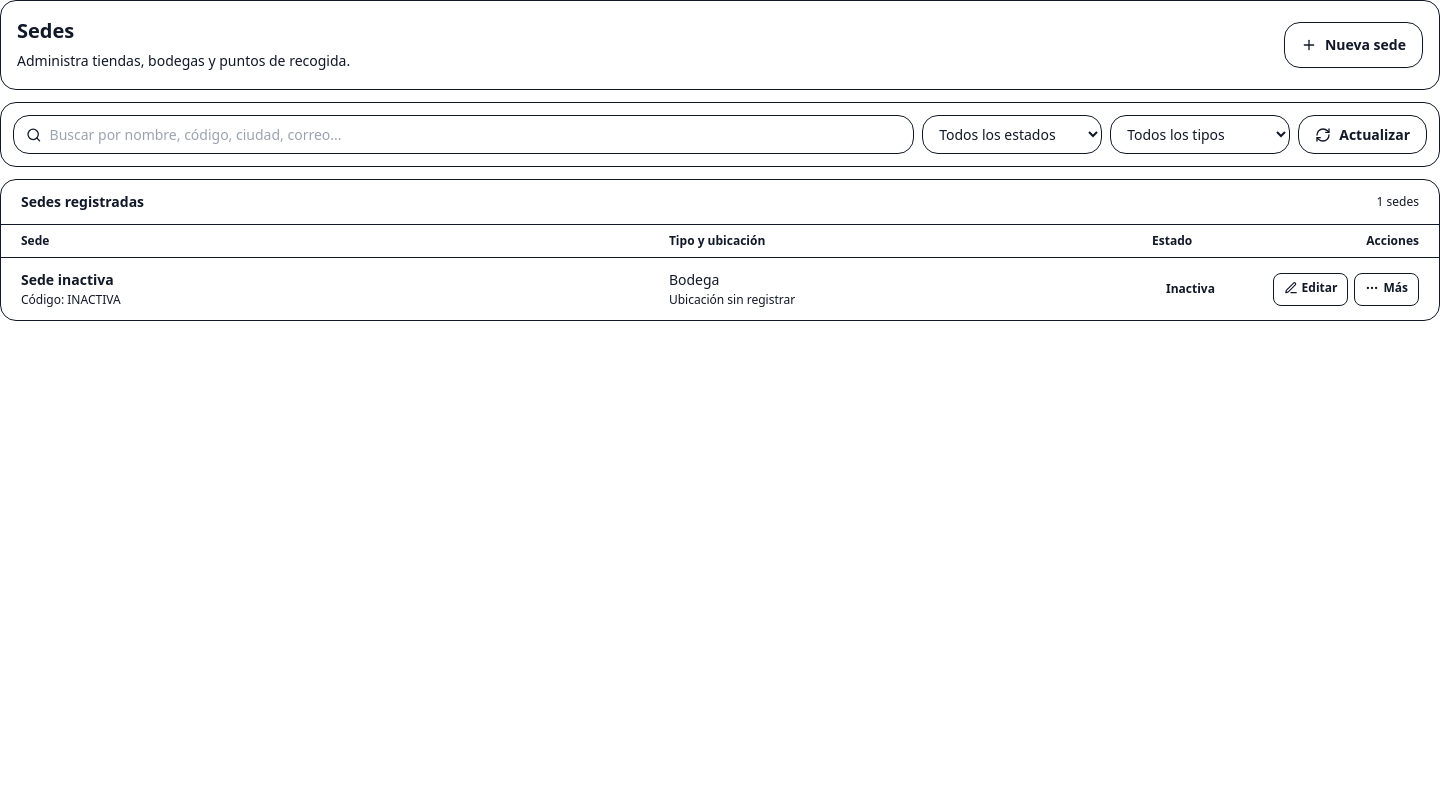
Test case: guarda los datos de una sede inactiva sin volver a solicitar su desactivación
Click the button with aria-label "Editar Sede inactiva". click: (1311, 289)
box: [1273,272,1348,306]
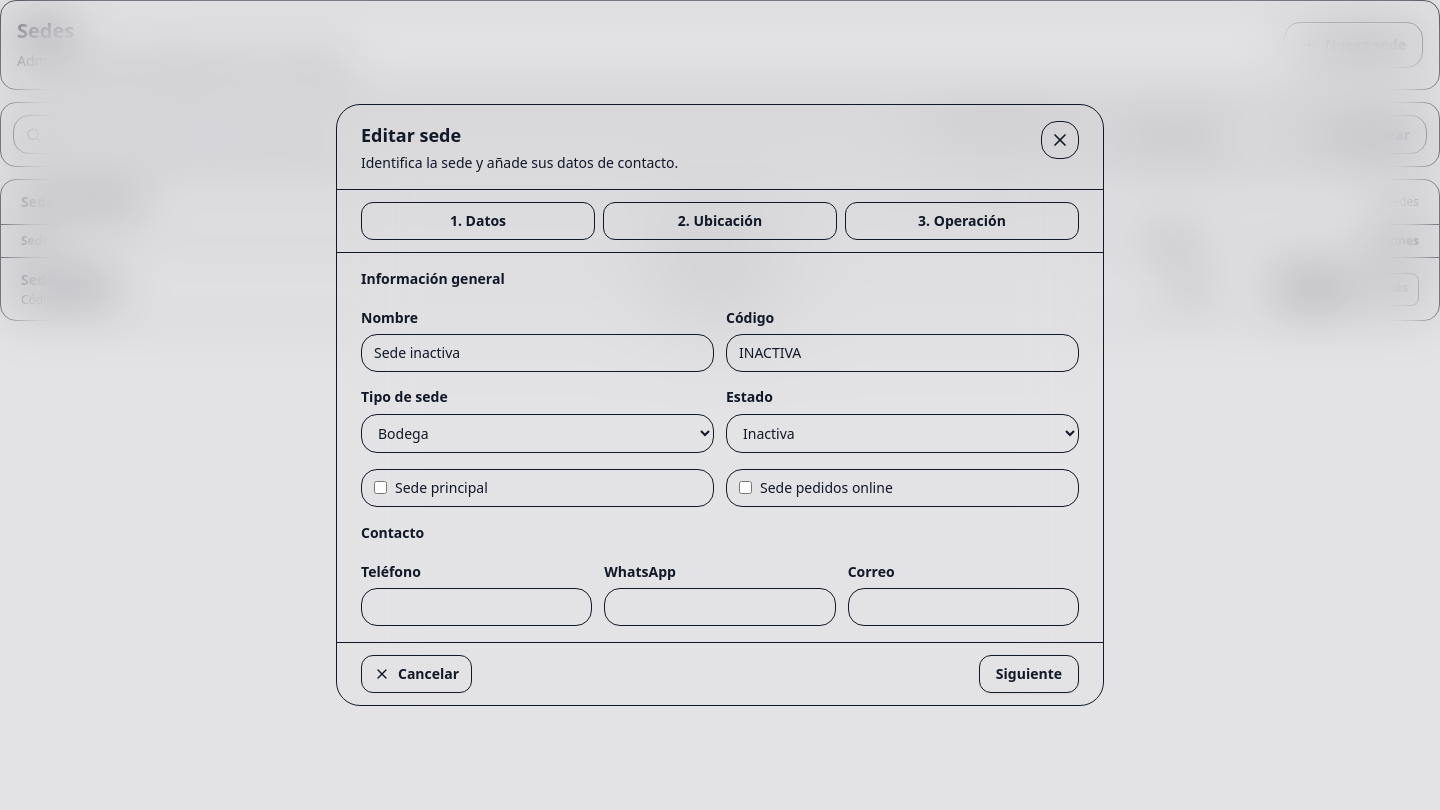
Replace the text in the field labelled "Nombre" with "Sede inactiva actualizada". click: (538, 353)
box: [361,334,714,372]
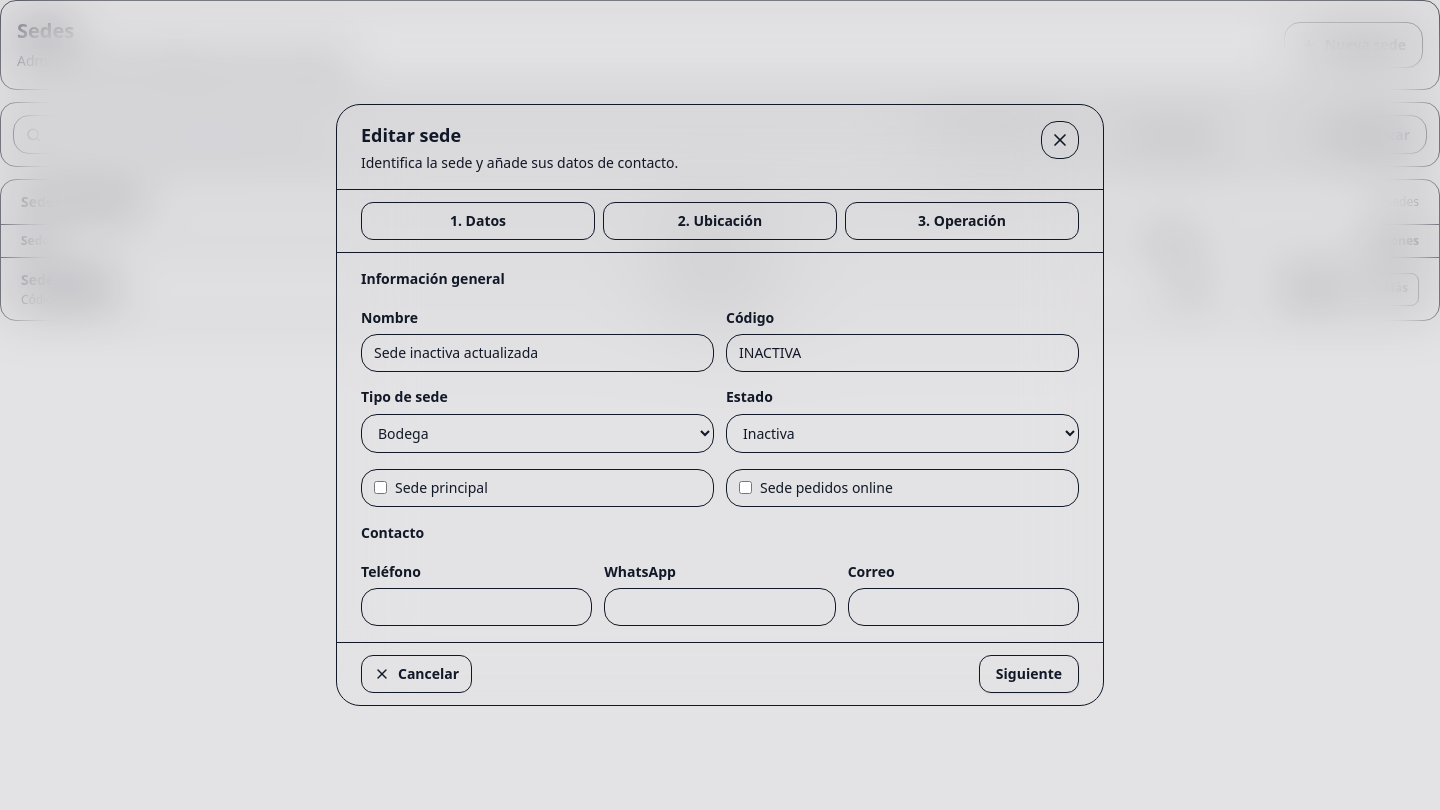
Click the button "3. Operación". click: (962, 221)
box: [845,202,1079,240]
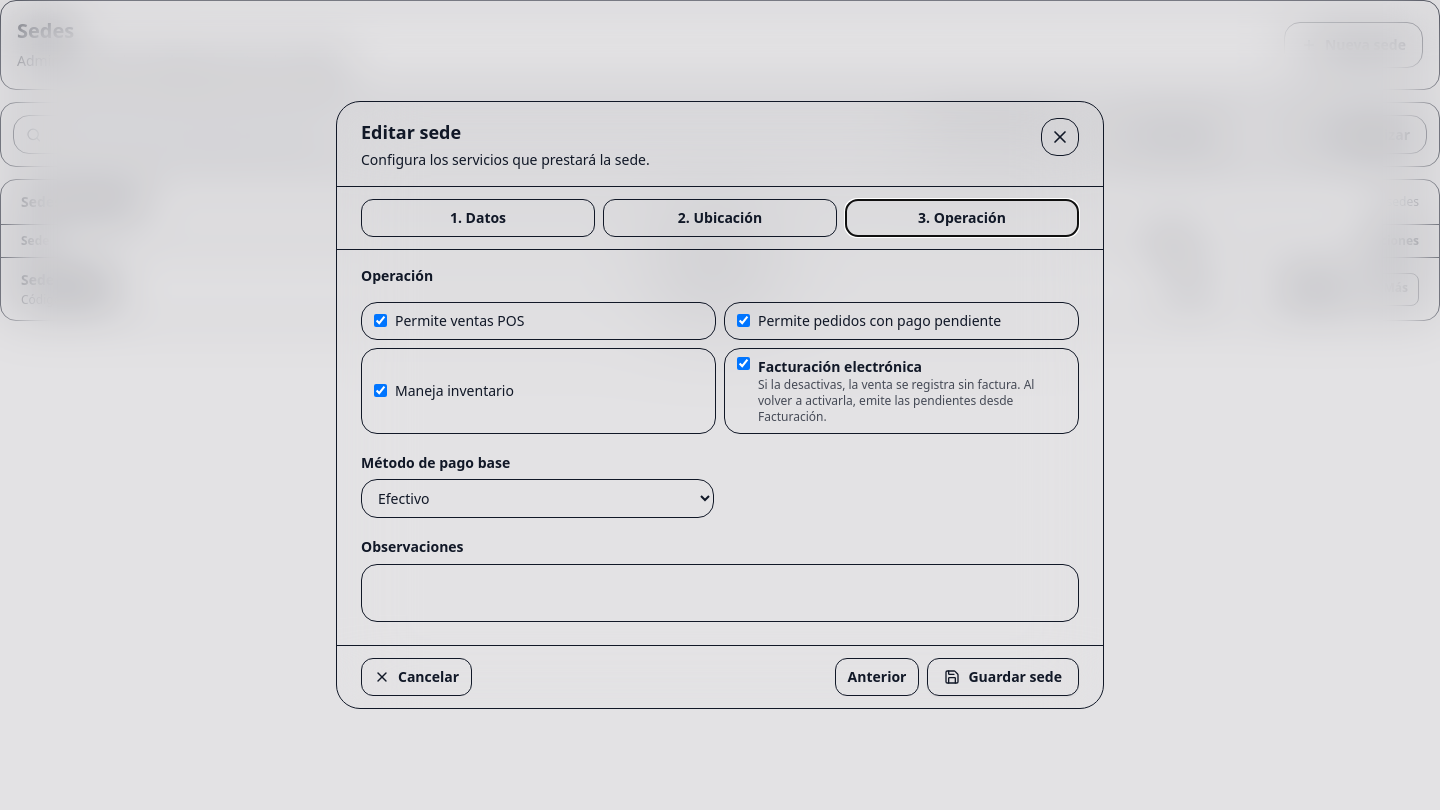
Click the button "Guardar sede". click: (1003, 677)
box: [927,658,1079,696]
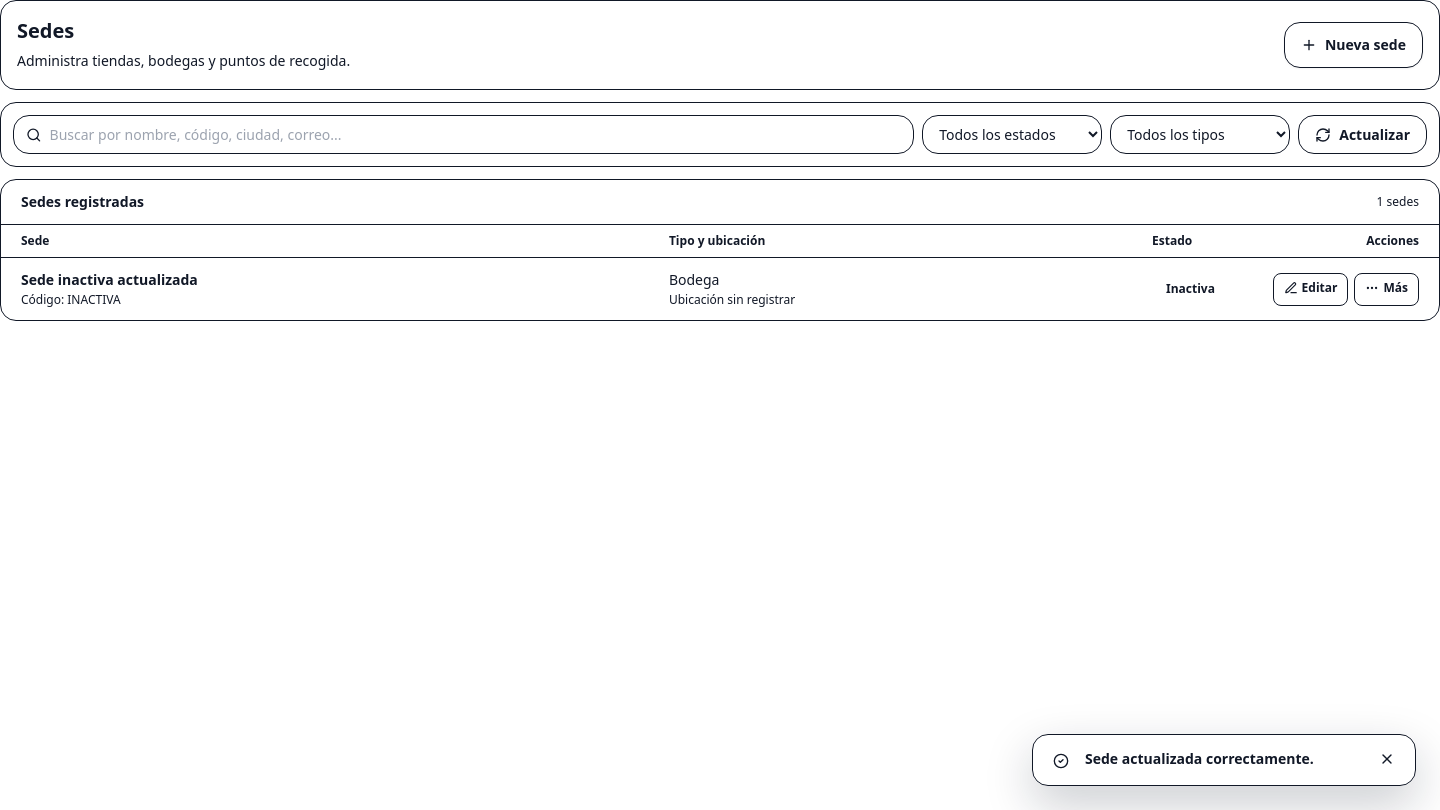
expect the text "Sede inactiva actualizada" is shown: met, box [21,270,198,290]
expect the message reads "Sede actualizada correctamente.": met, box [1085,749,1314,768]
